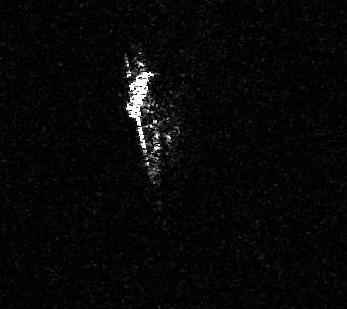ship: (123, 70, 155, 118)
